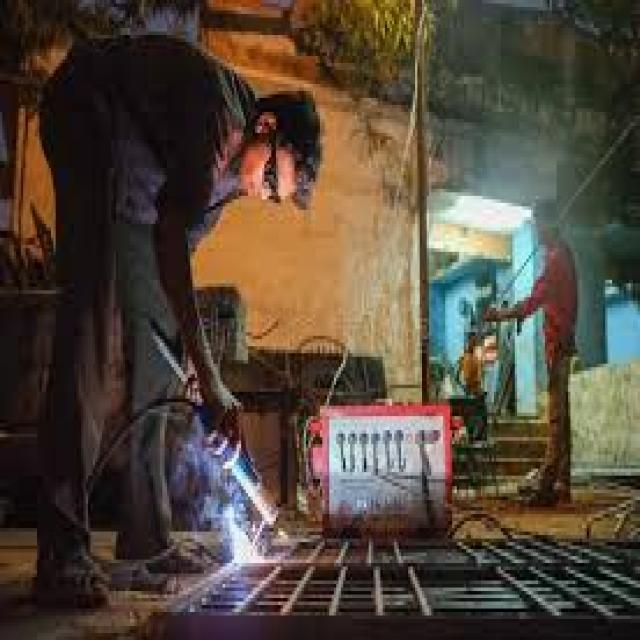without_helmet: (237, 89, 325, 206)
